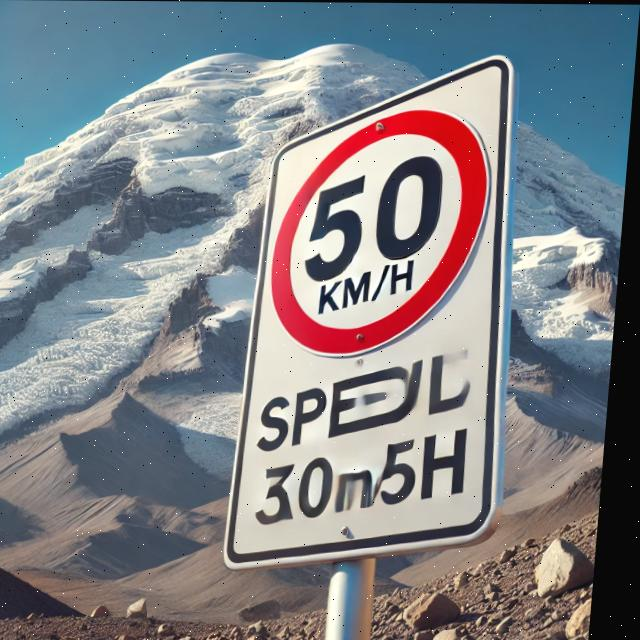Speed limit 50: (269, 107, 500, 358)
